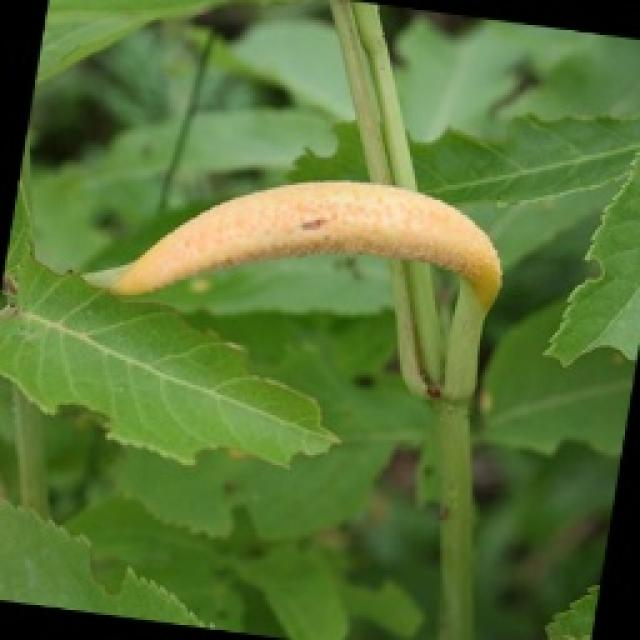Elderberry_rust: (80, 175, 505, 313)
